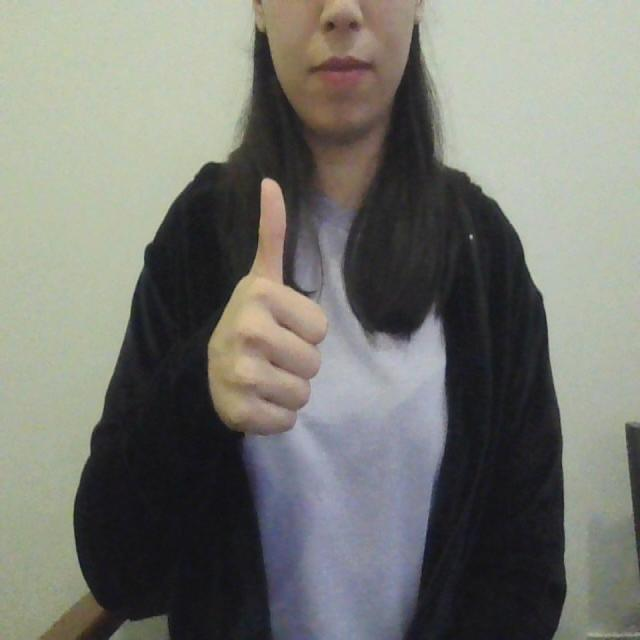Tamam: (199, 167, 332, 453)
